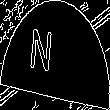N_S: (42, 27, 68, 83)
